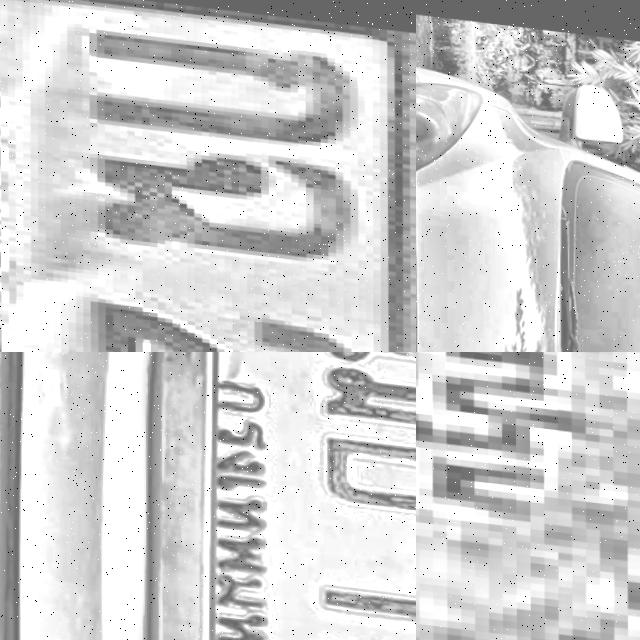license-plate: (0, 0, 416, 352), (99, 352, 416, 640), (416, 352, 640, 640)
